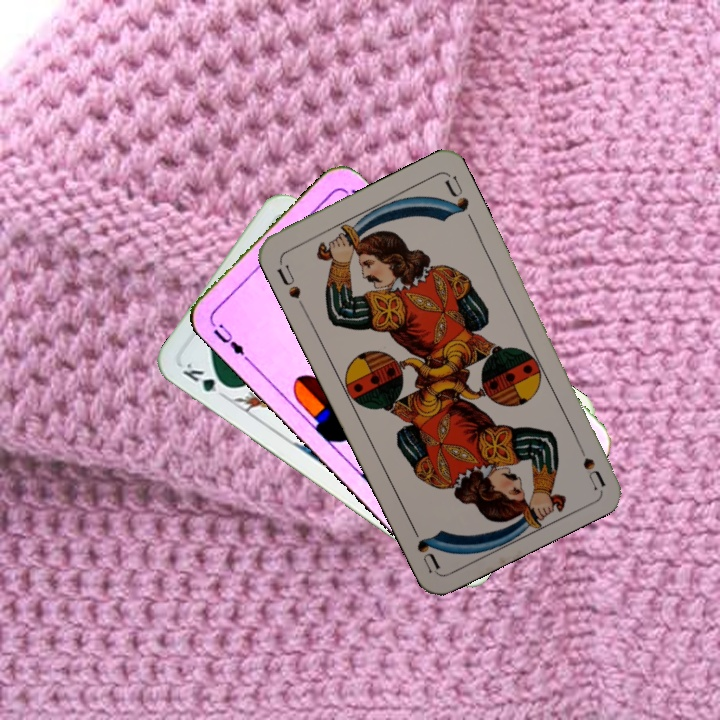EU: (209, 319, 252, 365)
GK: (178, 359, 234, 401)
SU: (571, 433, 608, 491), (272, 257, 308, 312)
